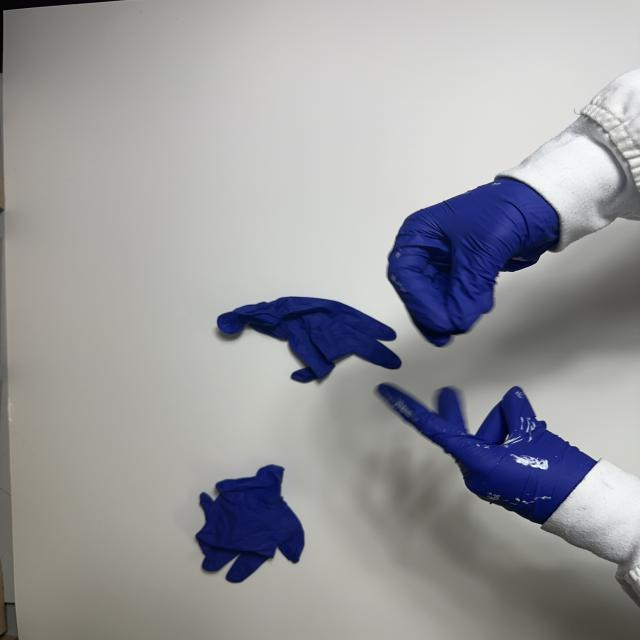gloves_contaminated: (378, 385, 596, 524), (388, 178, 559, 346)
